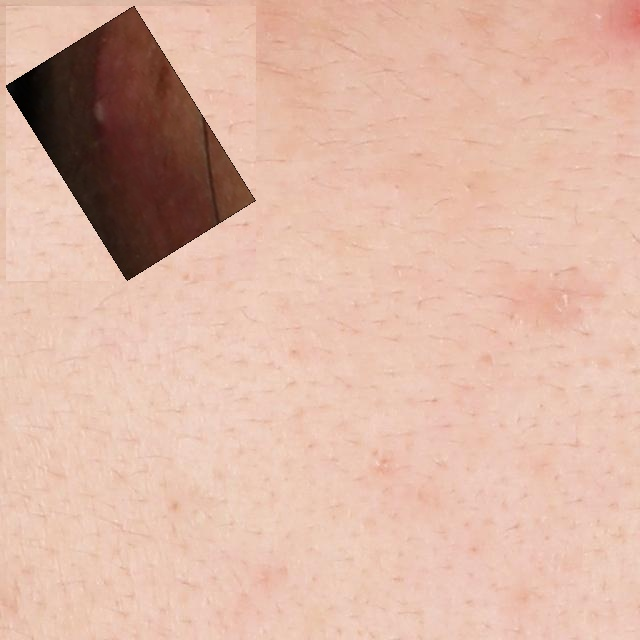nodule: (17, 17, 244, 269)
